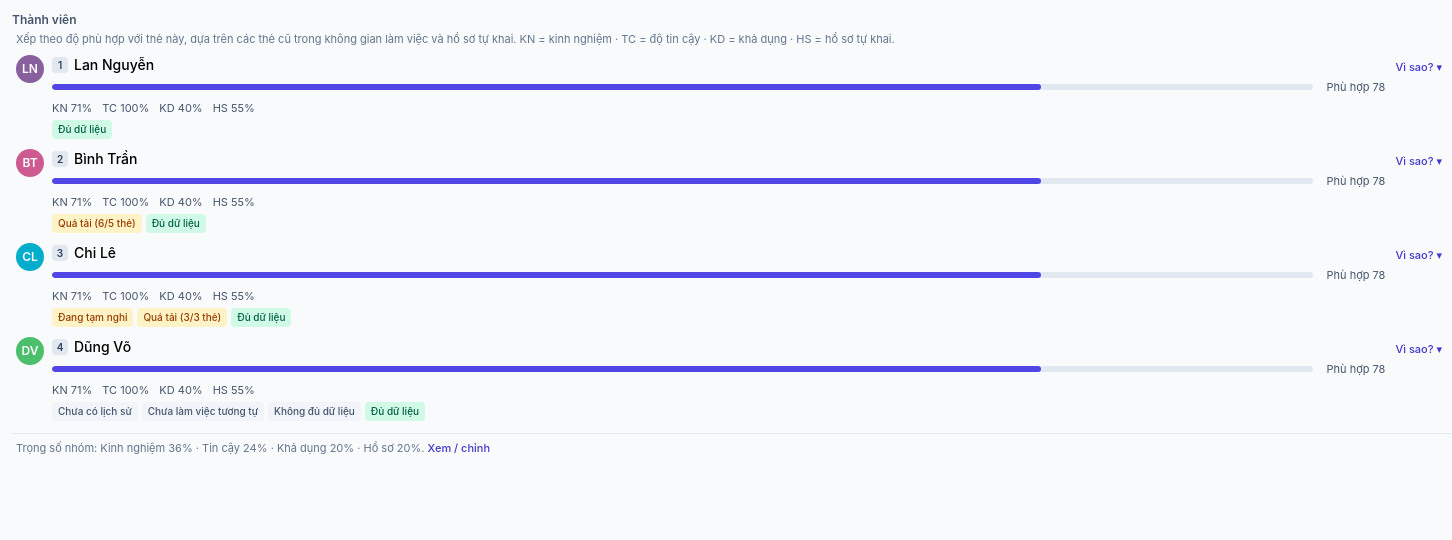
Test: AssignSuggestPanel - cảnh báo khi giao cho người quá tải / tạm nghỉ › QUÁ TẢI: bấm lần 1 chỉ hiện cảnh báo (chưa giao); "Vẫn giao" mới giao + ghi lựa chọn; cảnh báo biến mất
Expected: the list item with test id "assign-row-u2" is shown, left=12, top=145, right=1451, bottom=237
Click the button with aria-label "Giao thẻ cho Bình Trần" at (106, 159), box left=16, top=149, right=1385, bottom=233
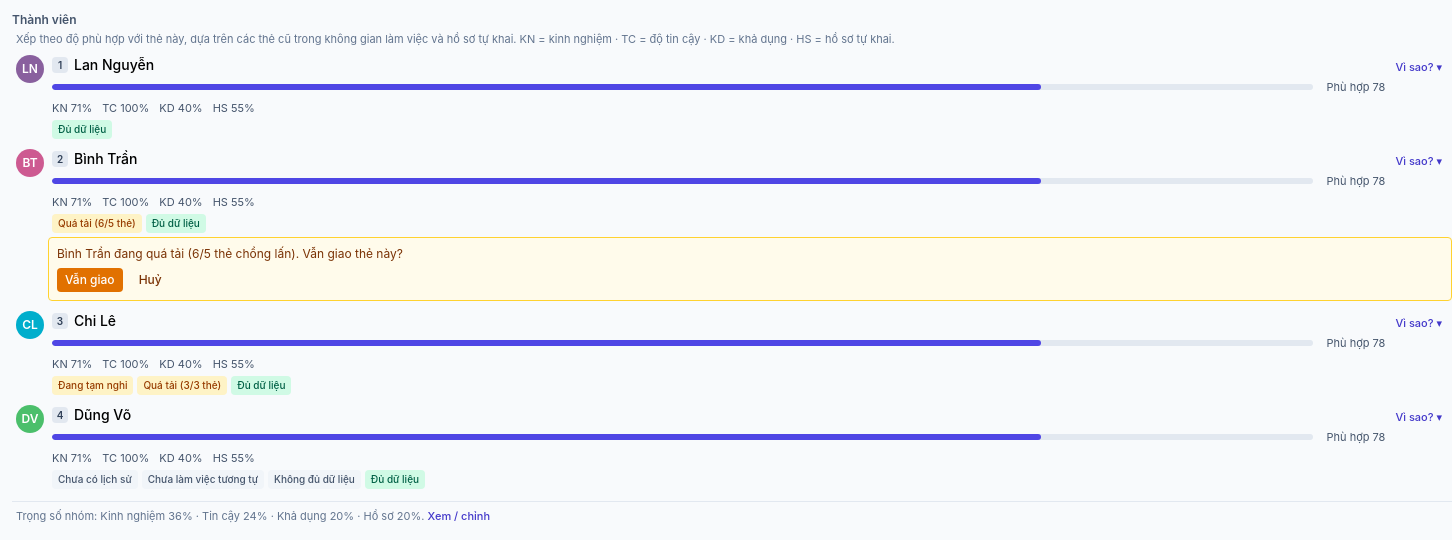
Now the message shows "Bình Trần đang quá tải (6/5 thẻ chồng lấn). Vẫn giao thẻ này?", box left=48, top=237, right=1451, bottom=301
Click the button "Vẫn giao" at (90, 280), box left=57, top=268, right=123, bottom=292
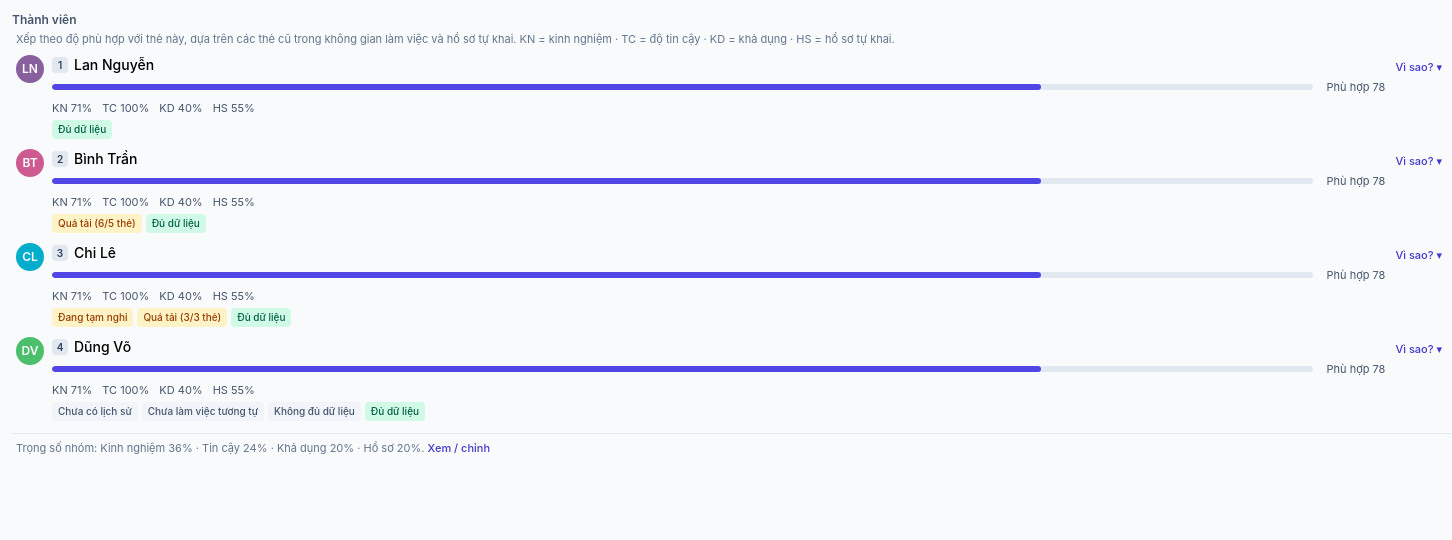
Now the message "Bình Trần đang quá tải (6/5 thẻ chồng lấn). Vẫn giao thẻ này? Vẫn giao Huỷ" is gone
